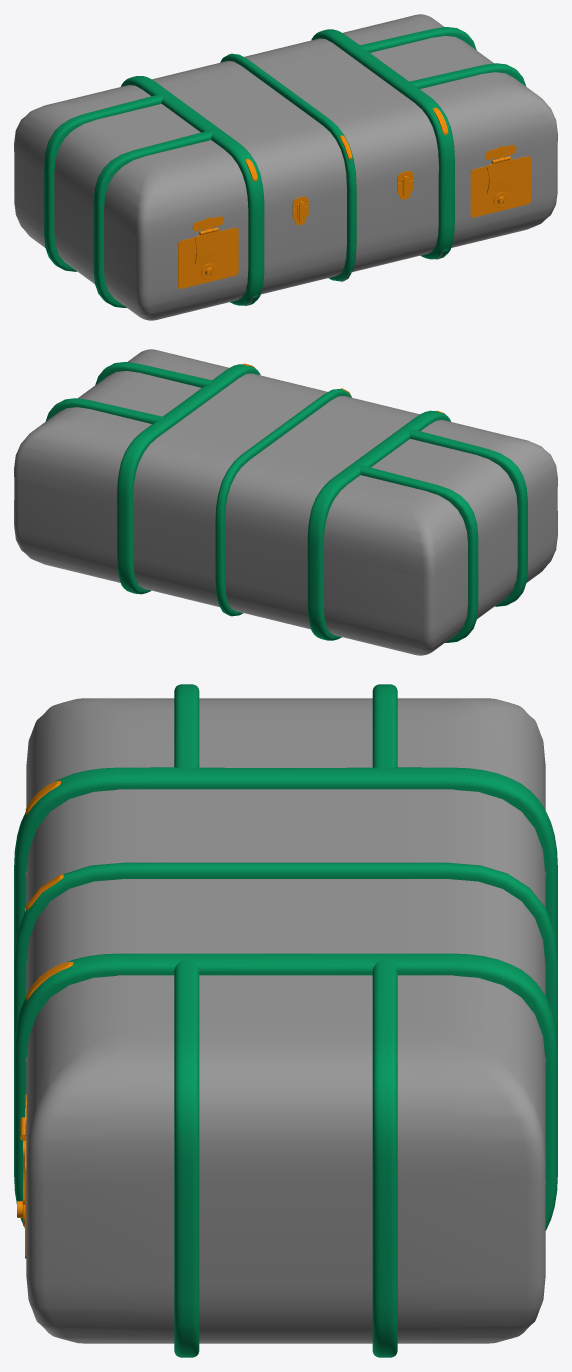
The model's file is N_OldSuitcase.fbx.
3 renders of one model, top to bottom at view 1: azimuth 30°, elevation 25°; view 2: azimuth 150°, elevation 25°; view 3: azimuth 270°, elevation 25°, orthographic. The views are drawn at different scales.
Visible parts, largest first — view 1: Box011; view 2: Box011; view 3: Box011.
Boxes of the visible parts, x1,y1,x2,y2 form: Box011: (14, 14, 557, 320); Box011: (14, 349, 557, 655); Box011: (14, 684, 557, 1357).
Size of the model in its own units: 83.33 by 29 by 45.56.
